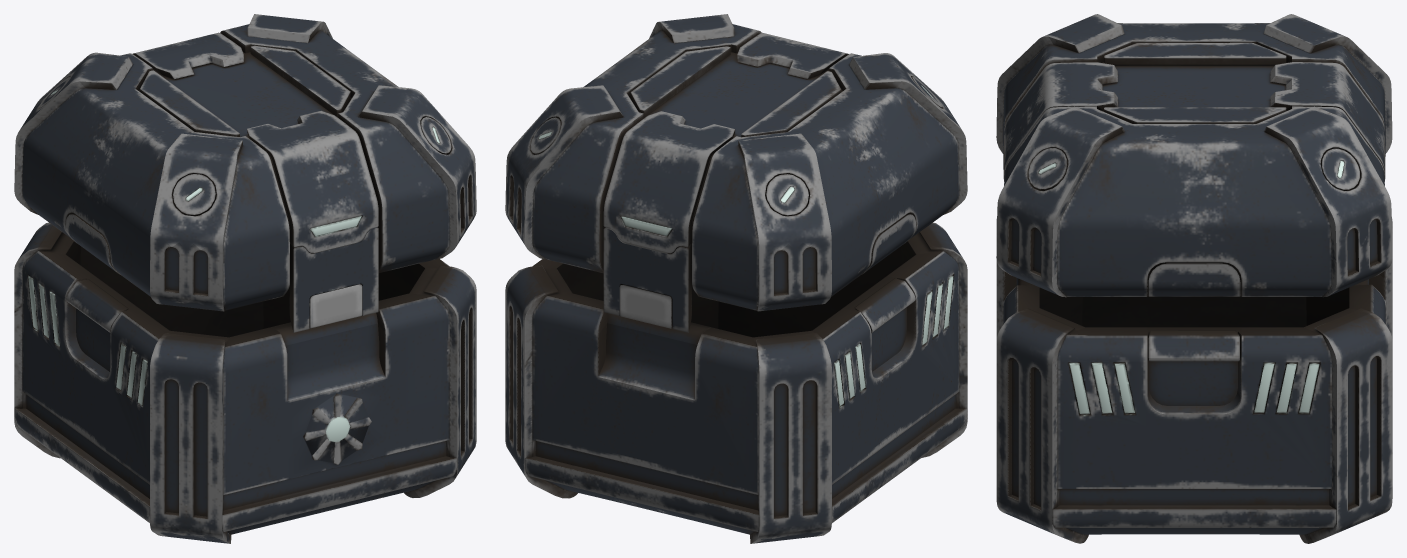
Rendered from MilSciBox.fbx.
The picture shows the model from 3 angles, left to right: view 1: azimuth 30°, elevation 25°; view 2: azimuth 150°, elevation 25°; view 3: azimuth 270°, elevation 25°; orthographic projection. The views are drawn at different scales.
Parts seen in each view (by area): view 1: crate_light; view 2: crate_light; view 3: crate_light.
Boxes of the visible parts, box(x1,y1,x2,y2) form: crate_light: box(14, 14, 476, 543); crate_light: box(505, 14, 967, 543); crate_light: box(996, 14, 1392, 543).
Bounding box in the file's own units: 461 × 461 × 513.
Materials: 1 (1 with a texture image).
